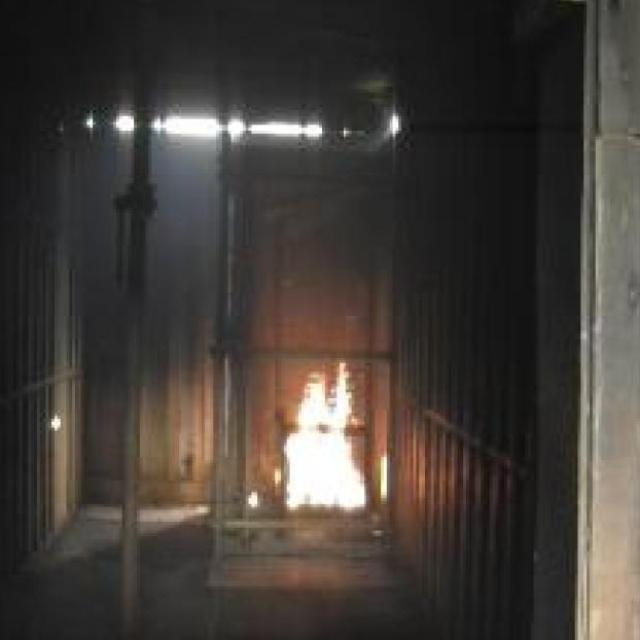smoke: (279, 360, 368, 513)
